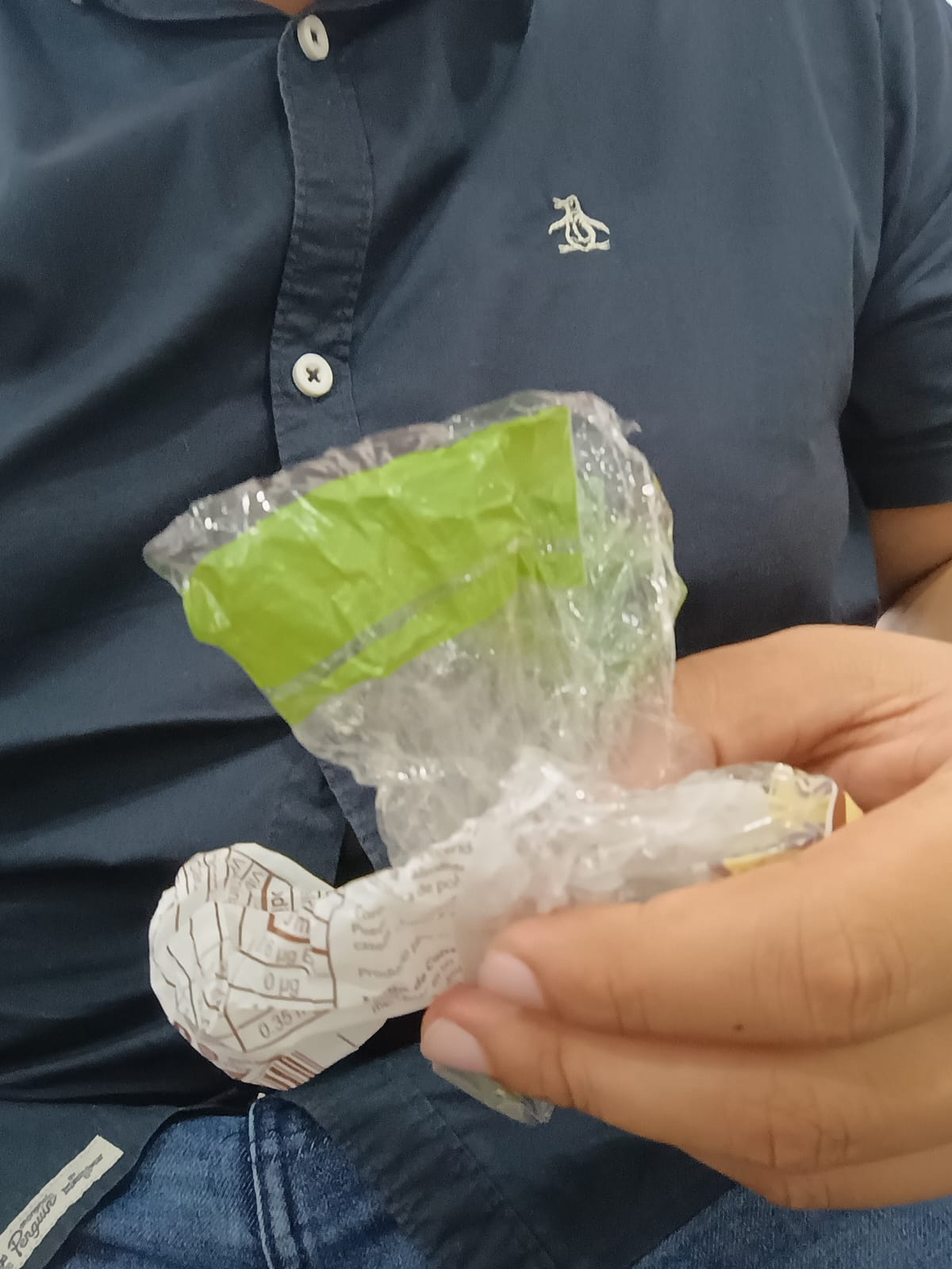Ordinario: (145, 389, 871, 1094)
